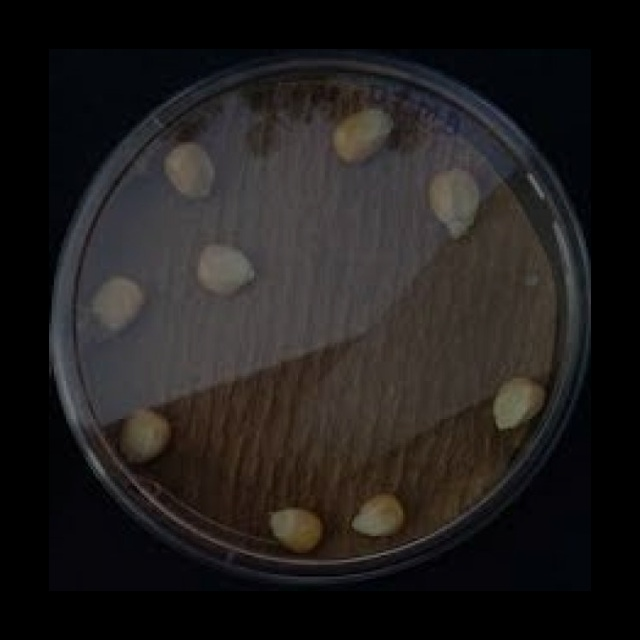Zea mays: (419, 160, 488, 238), (322, 103, 397, 162), (190, 238, 258, 298), (159, 137, 220, 199), (487, 371, 546, 432), (343, 490, 410, 540), (117, 403, 172, 463), (267, 502, 324, 550)
